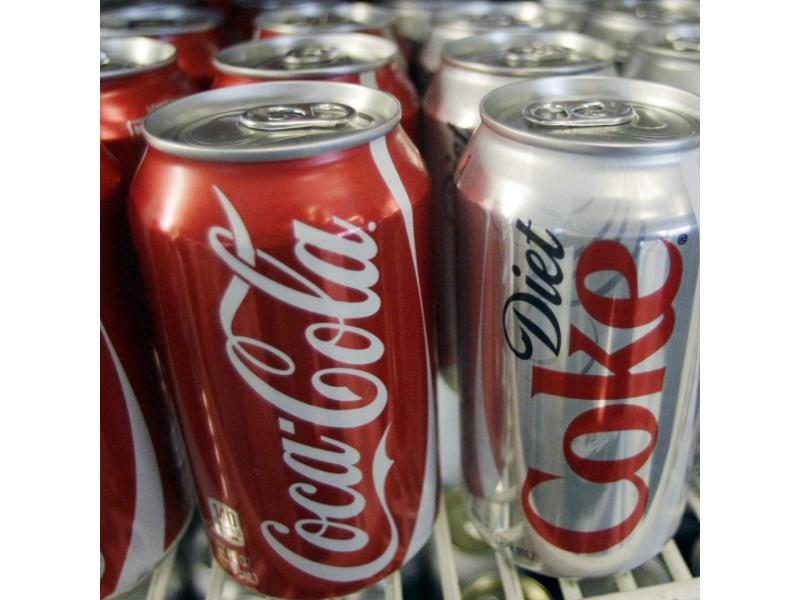can: (134, 80, 451, 591), (457, 68, 697, 578), (422, 26, 627, 85), (206, 35, 418, 79)
